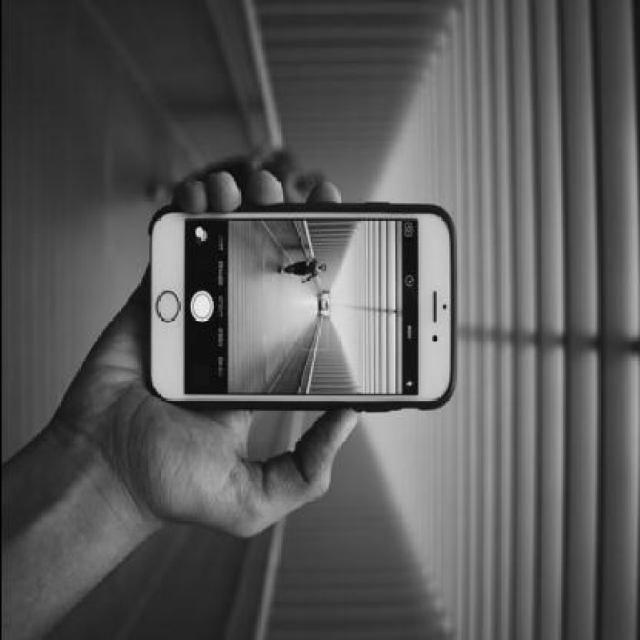fake: (140, 208, 458, 410)
